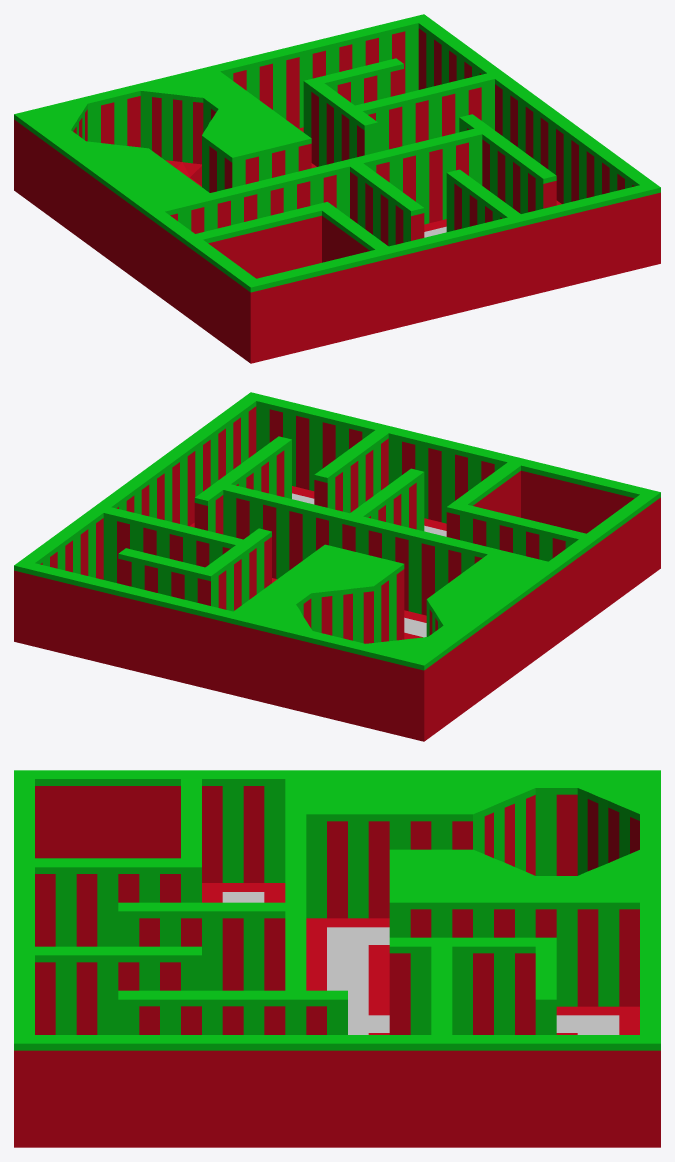
Rendered from levelobj.fbx.
3 views of the same model, one above another, from view 1: azimuth 30°, elevation 25°; view 2: azimuth 150°, elevation 25°; view 3: azimuth 270°, elevation 25° (orthographic). The views are drawn at different scales.
Parts seen in each view (by area): view 1: Plane; view 2: Plane; view 3: Plane.
Part boxes in pixels (x1,y1,x2,y2): Plane: (14, 14, 660, 363); Plane: (14, 392, 660, 741); Plane: (14, 770, 660, 1147).
Bounding box in the file's own units: 2000 × 355 × 2000.
